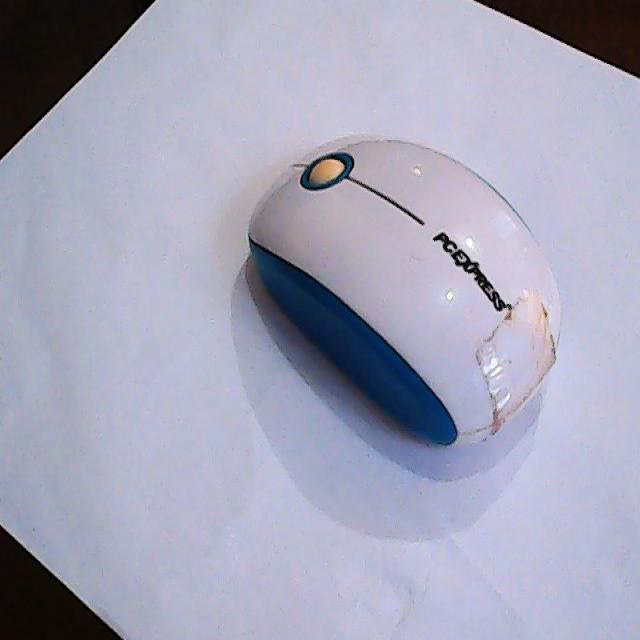-laptop-: (245, 130, 560, 454)
